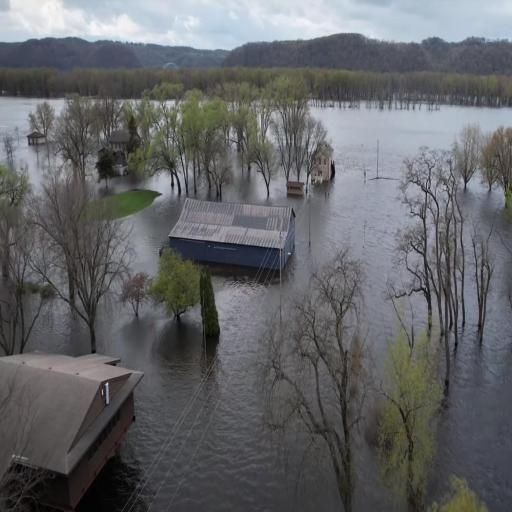flood: (224, 104, 512, 390), (79, 265, 342, 510), (428, 177, 512, 509), (0, 88, 64, 184), (127, 174, 184, 273), (95, 82, 159, 153), (29, 300, 89, 354), (354, 438, 395, 509), (86, 152, 143, 195), (436, 105, 512, 128), (327, 102, 379, 113), (380, 105, 410, 119)
house: (0, 348, 146, 512), (169, 193, 296, 275), (108, 126, 136, 172), (310, 138, 335, 188), (286, 179, 306, 199), (27, 132, 47, 146)
